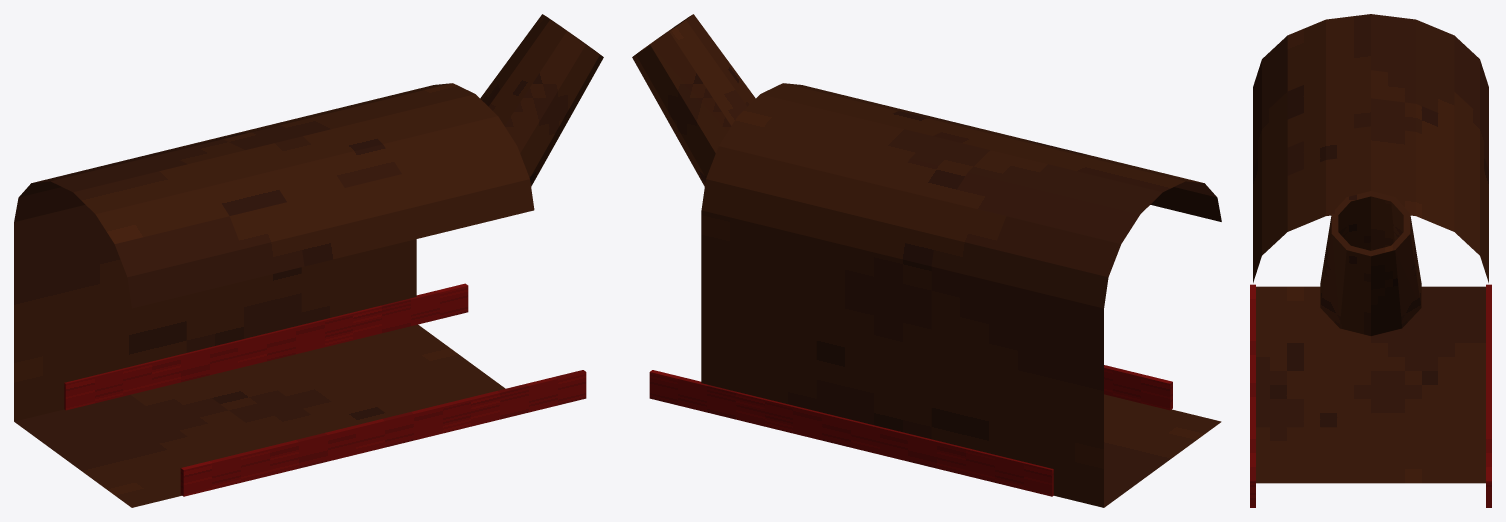
File: barda_cuero.glb
3 renders of one model, left to right at view 1: azimuth 30°, elevation 25°; view 2: azimuth 150°, elevation 25°; view 3: azimuth 270°, elevation 25°, orthographic.
Parts seen in each view (by area): view 1: manto, borde, cuello; view 2: manto, borde, cuello; view 3: manto, cuello, borde.
Part boxes in pixels (x1,y1,x2,y2): manto: (14,83,534,507); borde: (64,283,586,496); cuello: (480,14,603,186); manto: (701,83,1221,507); borde: (649,365,1172,496); cuello: (632,14,755,186); manto: (1253,14,1488,483); cuello: (1320,191,1421,335); borde: (1250,284,1491,507).
Bounding box in the file's own units: 2 × 1.2 × 0.8.
Materials: 1 (1 with a texture image).
